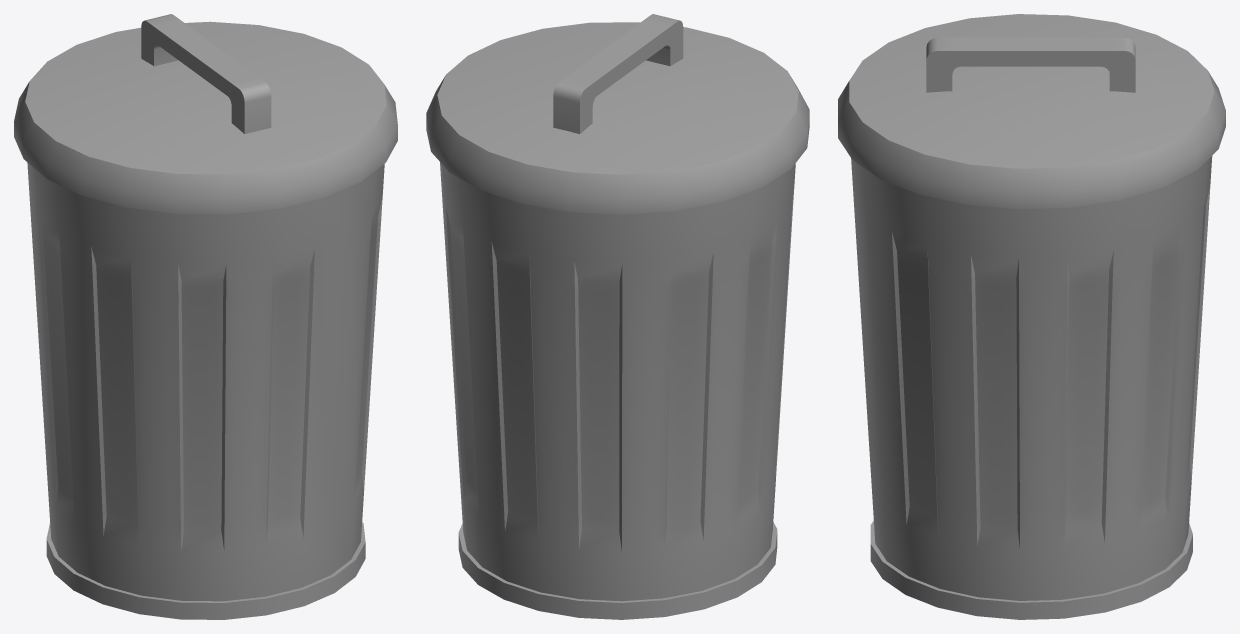
File: Trash can.fbx
3 renders of one model, left to right at view 1: azimuth 30°, elevation 25°; view 2: azimuth 150°, elevation 25°; view 3: azimuth 270°, elevation 25°, orthographic.
Visible parts, largest first — view 1: Cube.001, Cube.002; view 2: Cube.001, Cube.002; view 3: Cube.001, Cube.002.
Part boxes in pixels (<box>): Cube.001: <box>27,162,384,619</box>; Cube.002: <box>14,14,397,214</box>; Cube.001: <box>440,162,795,619</box>; Cube.002: <box>426,14,809,214</box>; Cube.001: <box>851,156,1212,619</box>; Cube.002: <box>838,14,1225,209</box>.
Bounding box in the file's own units: 247 × 356 × 247.
